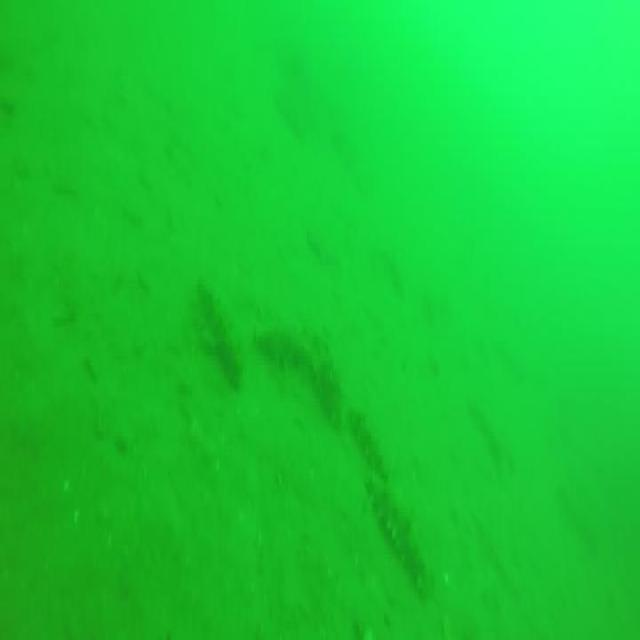holothurian: (260, 315, 342, 425), (362, 472, 426, 582), (199, 286, 245, 381), (354, 406, 393, 484)
